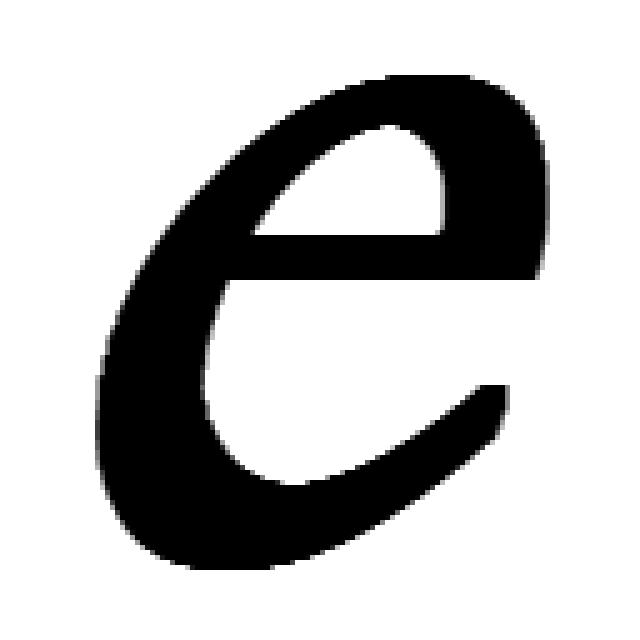E: (95, 75, 550, 575)
